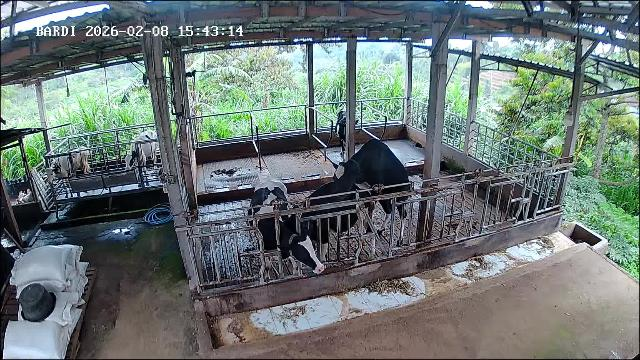mounting: (331, 138, 413, 244)
